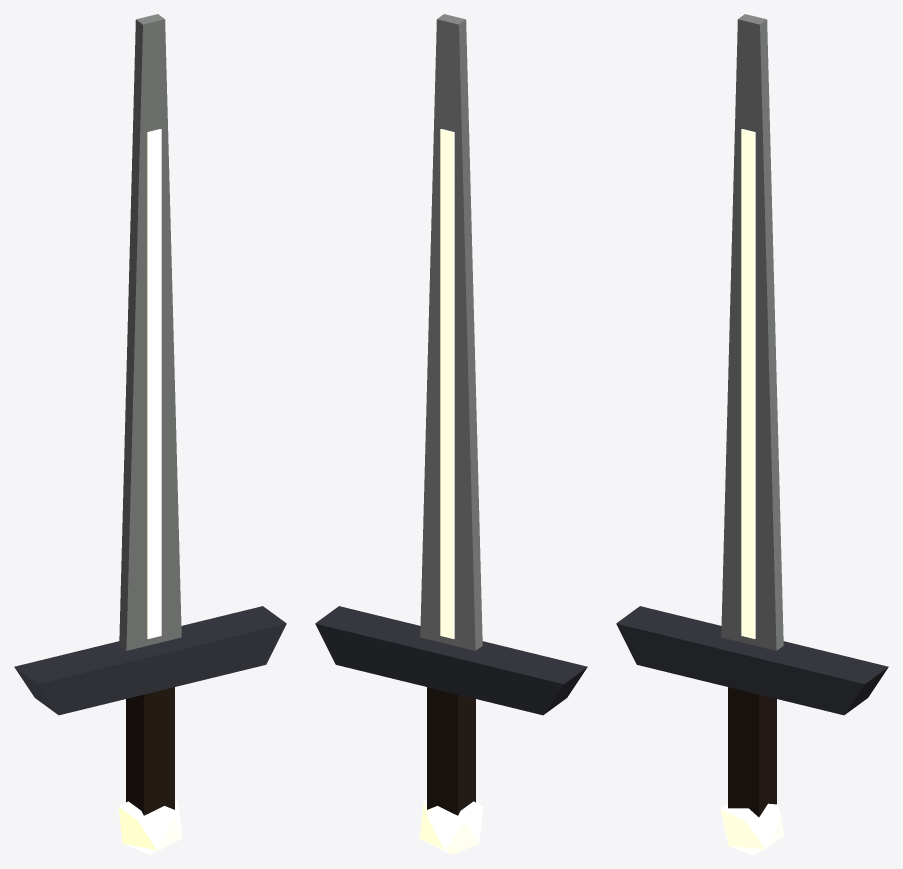
The model's file is witchbane.glb.
3 renders of one model, left to right at view 1: azimuth 30°, elevation 25°; view 2: azimuth 150°, elevation 25°; view 3: azimuth 330°, elevation 25°, orthographic.
Visible parts, largest first — view 1: Witchbane; view 2: Witchbane; view 3: Witchbane.
Part boxes in pixels (<box>): Witchbane: <box>14,14,286,854</box>; Witchbane: <box>315,14,587,854</box>; Witchbane: <box>616,14,888,854</box>.
Bounding box in the file's own units: 0.36 × 1.16 × 0.0766.
